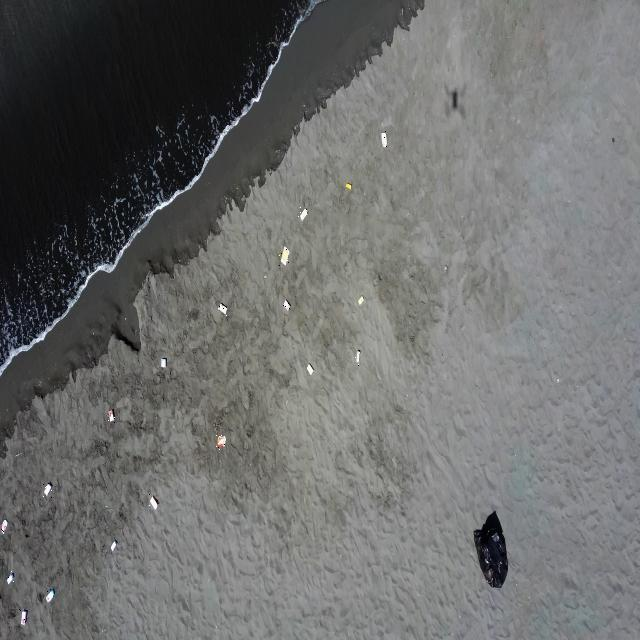Garbage: (473, 512, 507, 587), (44, 587, 55, 602), (280, 246, 288, 264), (148, 493, 156, 508), (215, 435, 224, 448), (380, 131, 387, 147), (20, 608, 27, 624), (218, 303, 227, 315), (5, 572, 13, 584), (43, 483, 51, 495), (299, 209, 307, 220), (0, 520, 7, 532), (107, 408, 114, 420), (355, 348, 360, 364), (160, 356, 166, 367), (110, 540, 116, 551), (283, 299, 289, 310), (344, 181, 351, 190), (307, 363, 312, 375), (357, 296, 364, 303), (553, 376, 559, 383), (443, 263, 447, 272)
